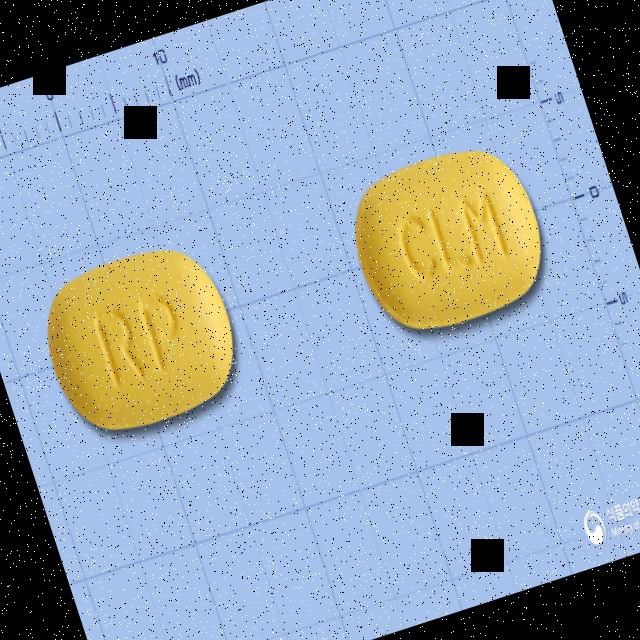Rpclari Tab: (334, 130, 561, 347), (29, 230, 252, 446)
